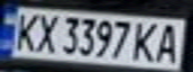3: (57, 14, 81, 56), (75, 15, 96, 56)
7: (112, 18, 133, 60)
9: (93, 16, 115, 57)
A: (151, 20, 187, 64)
K: (6, 10, 42, 53), (130, 19, 163, 64)
X: (30, 10, 60, 54)
